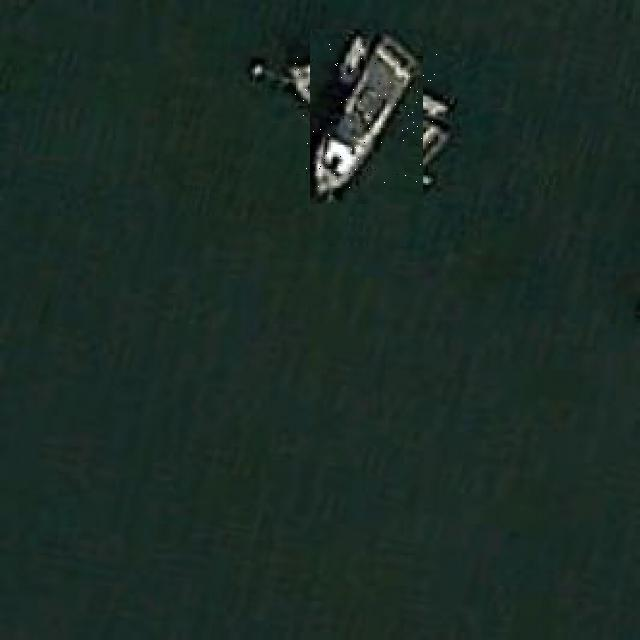boat: (295, 44, 439, 189)
